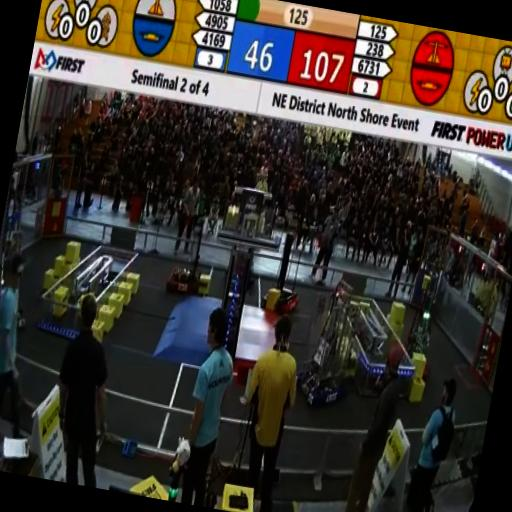robot: (295, 272, 366, 416), (390, 275, 450, 384), (0, 205, 46, 347), (163, 204, 225, 302), (260, 226, 312, 316), (219, 224, 262, 290)
